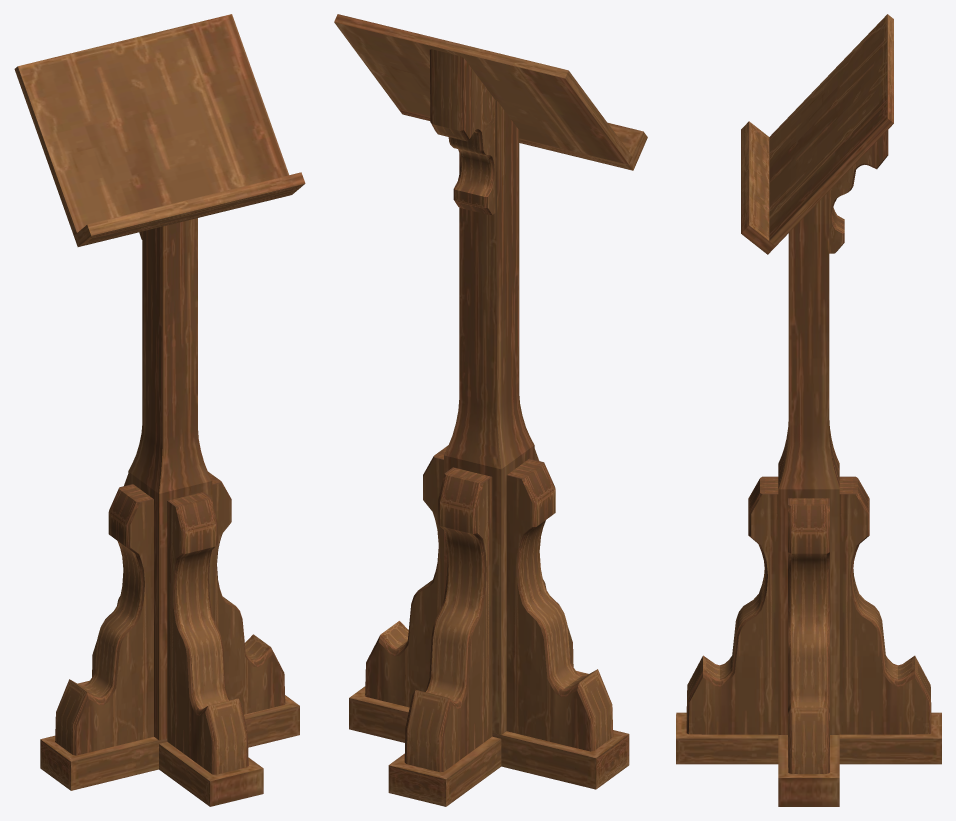
File: BookStand.glb
The picture shows the model from 3 angles, left to right: view 1: azimuth 30°, elevation 25°; view 2: azimuth 150°, elevation 25°; view 3: azimuth 270°, elevation 25°; orthographic projection. The views are drawn at different scales.
Visible parts, largest first — view 1: BookStand; view 2: BookStand; view 3: BookStand.
Boxes of the visible parts, x1,y1,x2,y2 form: BookStand: (14, 14, 305, 806); BookStand: (334, 14, 647, 806); BookStand: (676, 14, 941, 806).
Bounding box in the file's own units: 0.5071 × 1.45 × 0.5112.
1 material, 1 textured.
